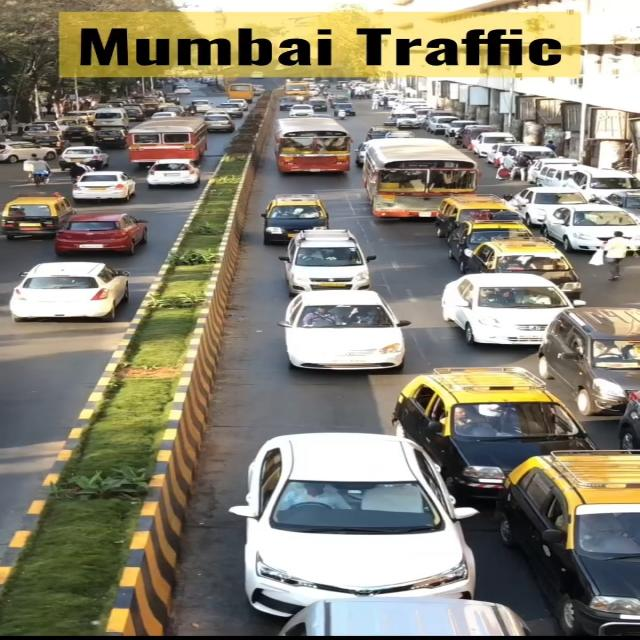Bus: (355, 125, 490, 224), (267, 114, 357, 180), (119, 112, 217, 169)
Car: (232, 428, 487, 620), (267, 282, 423, 378), (4, 253, 134, 325)
